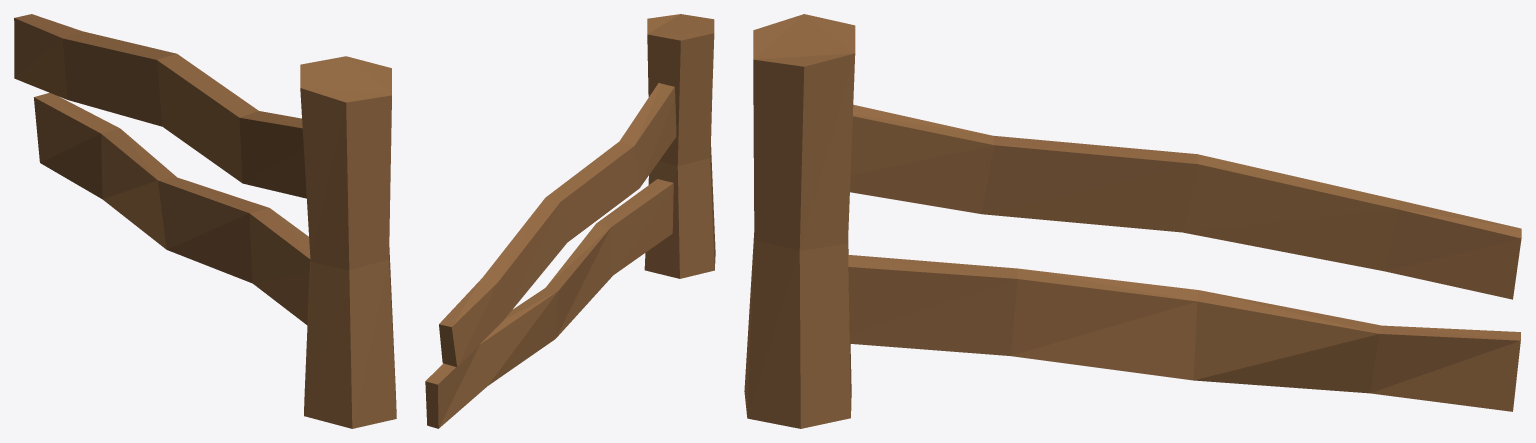
Rendered from fence.gltf.
3 renders of one model, left to right at view 1: azimuth 30°, elevation 25°; view 2: azimuth 150°, elevation 25°; view 3: azimuth 270°, elevation 25°, orthographic. The views are drawn at different scales.
Visible parts, largest first — view 1: Fence_2_Start_2; view 2: Fence_2_Start_2; view 3: Fence_2_Start_2.
Part boxes in pixels (x1,y1,x2,y2): Fence_2_Start_2: [14, 14, 396, 428]; Fence_2_Start_2: [425, 14, 715, 428]; Fence_2_Start_2: [744, 14, 1521, 428].
Size of the model in its own units: 0.4169 by 1.4 by 2.68.
